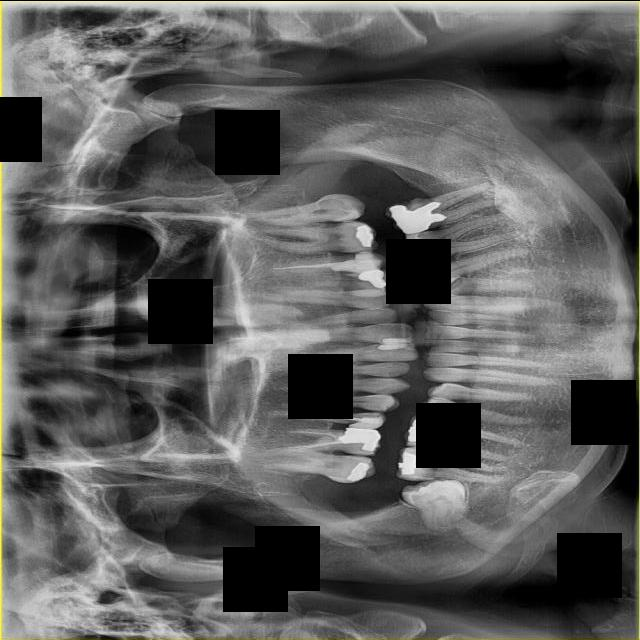71: (312, 412, 379, 424)
74: (273, 261, 341, 272), (287, 439, 342, 450), (295, 439, 341, 449), (288, 428, 339, 437), (278, 411, 312, 415)
NucleOSS Implant: (390, 196, 448, 236), (337, 427, 379, 451), (357, 261, 391, 290), (345, 456, 374, 488), (350, 220, 379, 250), (403, 416, 429, 444), (396, 449, 420, 475)
Sterngold Implant: (392, 195, 430, 212), (433, 276, 464, 295), (414, 445, 431, 451), (374, 405, 386, 411), (371, 411, 382, 417), (418, 442, 430, 447)
Straumann Implant: (328, 247, 387, 278), (407, 229, 434, 264), (348, 414, 386, 431), (330, 206, 364, 221), (376, 342, 409, 350), (381, 336, 414, 344)
